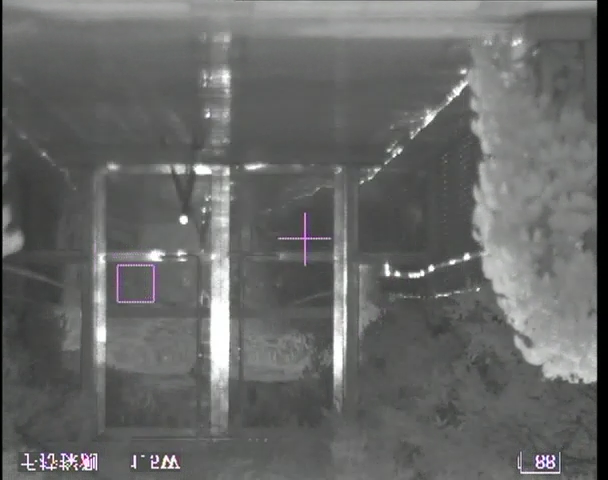my: (177, 213, 189, 225)
